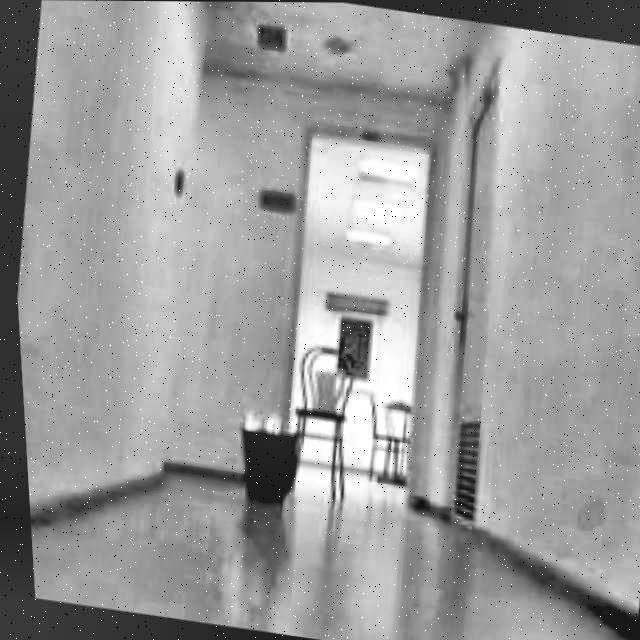Fire: (232, 408, 295, 434)
